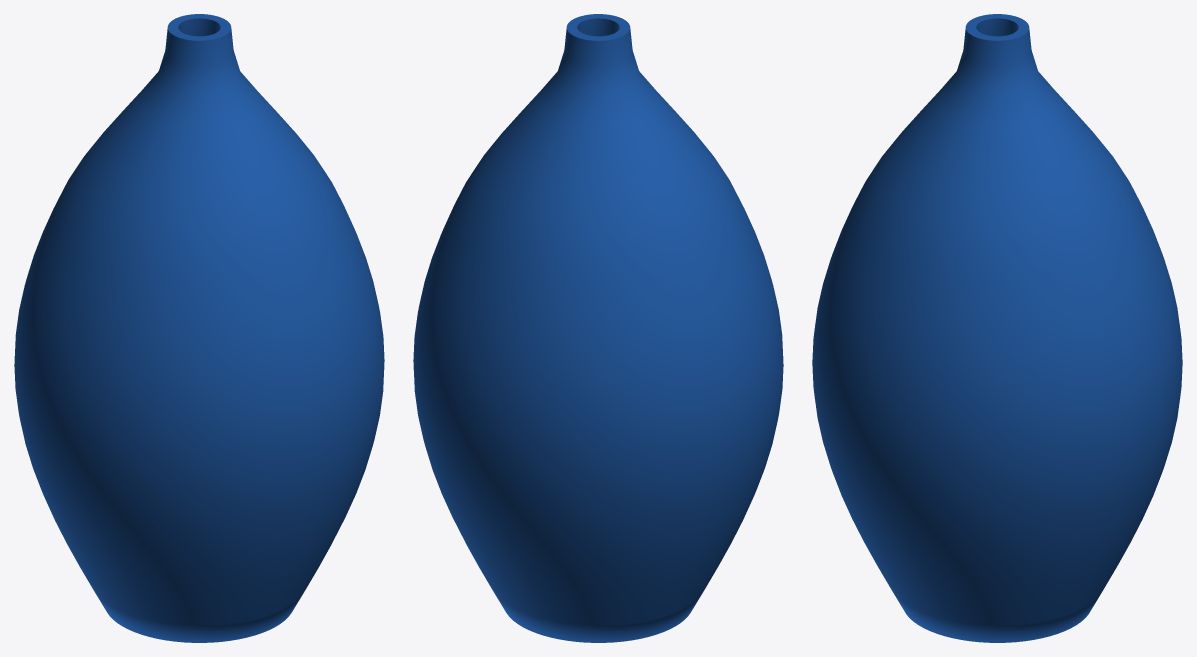
The model's file is vase.glb.
3 renders of one model, left to right at view 1: azimuth 30°, elevation 25°; view 2: azimuth 150°, elevation 25°; view 3: azimuth 270°, elevation 25°, orthographic.
Parts seen in each view (by area): view 1: Vase; view 2: Vase; view 3: Vase.
Part boxes in pixels (bbox=[...]): Vase: bbox=[14, 14, 384, 642]; Vase: bbox=[413, 14, 783, 642]; Vase: bbox=[812, 14, 1182, 642].
Size of the model in its own units: 0.7 by 1.2 by 0.7.
